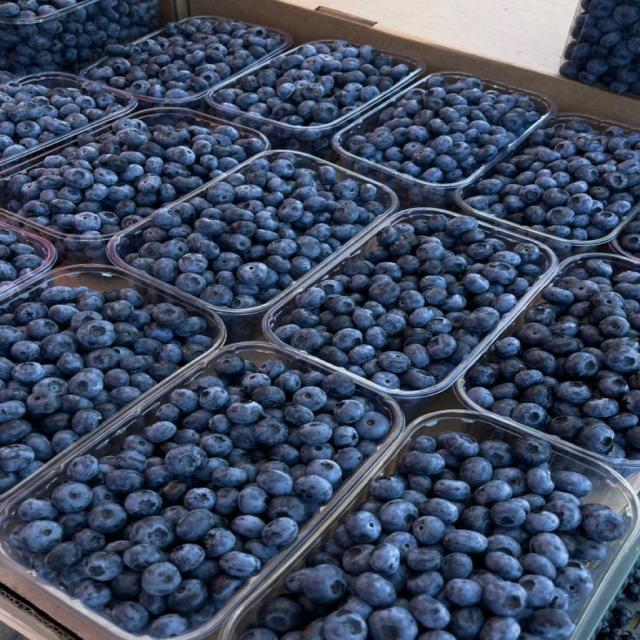blueberry: (12, 355, 390, 632), (274, 216, 537, 390), (123, 154, 383, 309), (12, 117, 265, 234), (468, 119, 633, 253), (212, 41, 410, 150), (344, 77, 539, 183), (88, 19, 281, 101), (368, 606, 417, 639), (483, 581, 526, 617), (410, 594, 450, 629), (77, 320, 114, 349), (444, 578, 482, 605)
